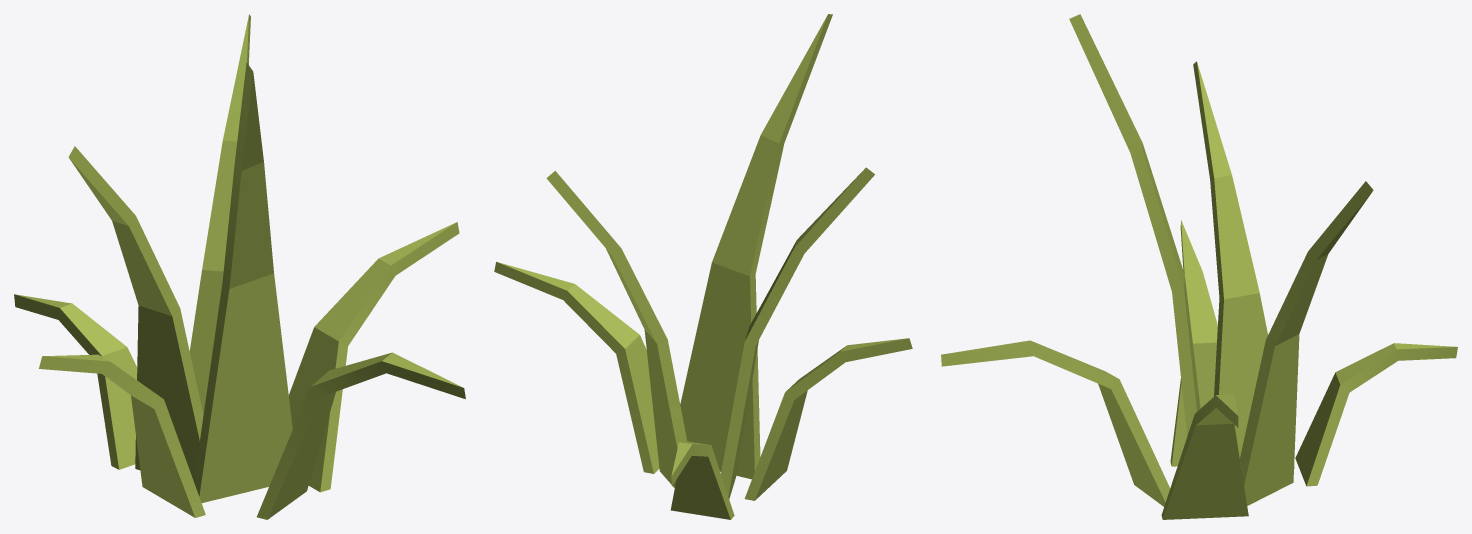
The model's file is LowPoly - Grass D.fbx.
3 renders of one model, left to right at view 1: azimuth 30°, elevation 25°; view 2: azimuth 150°, elevation 25°; view 3: azimuth 270°, elevation 25°, orthographic. The views are drawn at different scales.
Parts seen in each view (by area): view 1: LowPolyGrass_01.001; view 2: LowPolyGrass_01.001; view 3: LowPolyGrass_01.001.
Boxes of the visible parts, x1,y1,x2,y2 form: LowPolyGrass_01.001: (14,14,465,519); LowPolyGrass_01.001: (494,14,912,519); LowPolyGrass_01.001: (941,14,1457,519).
Size of the model in its own units: 76.84 by 79.81 by 83.38.
